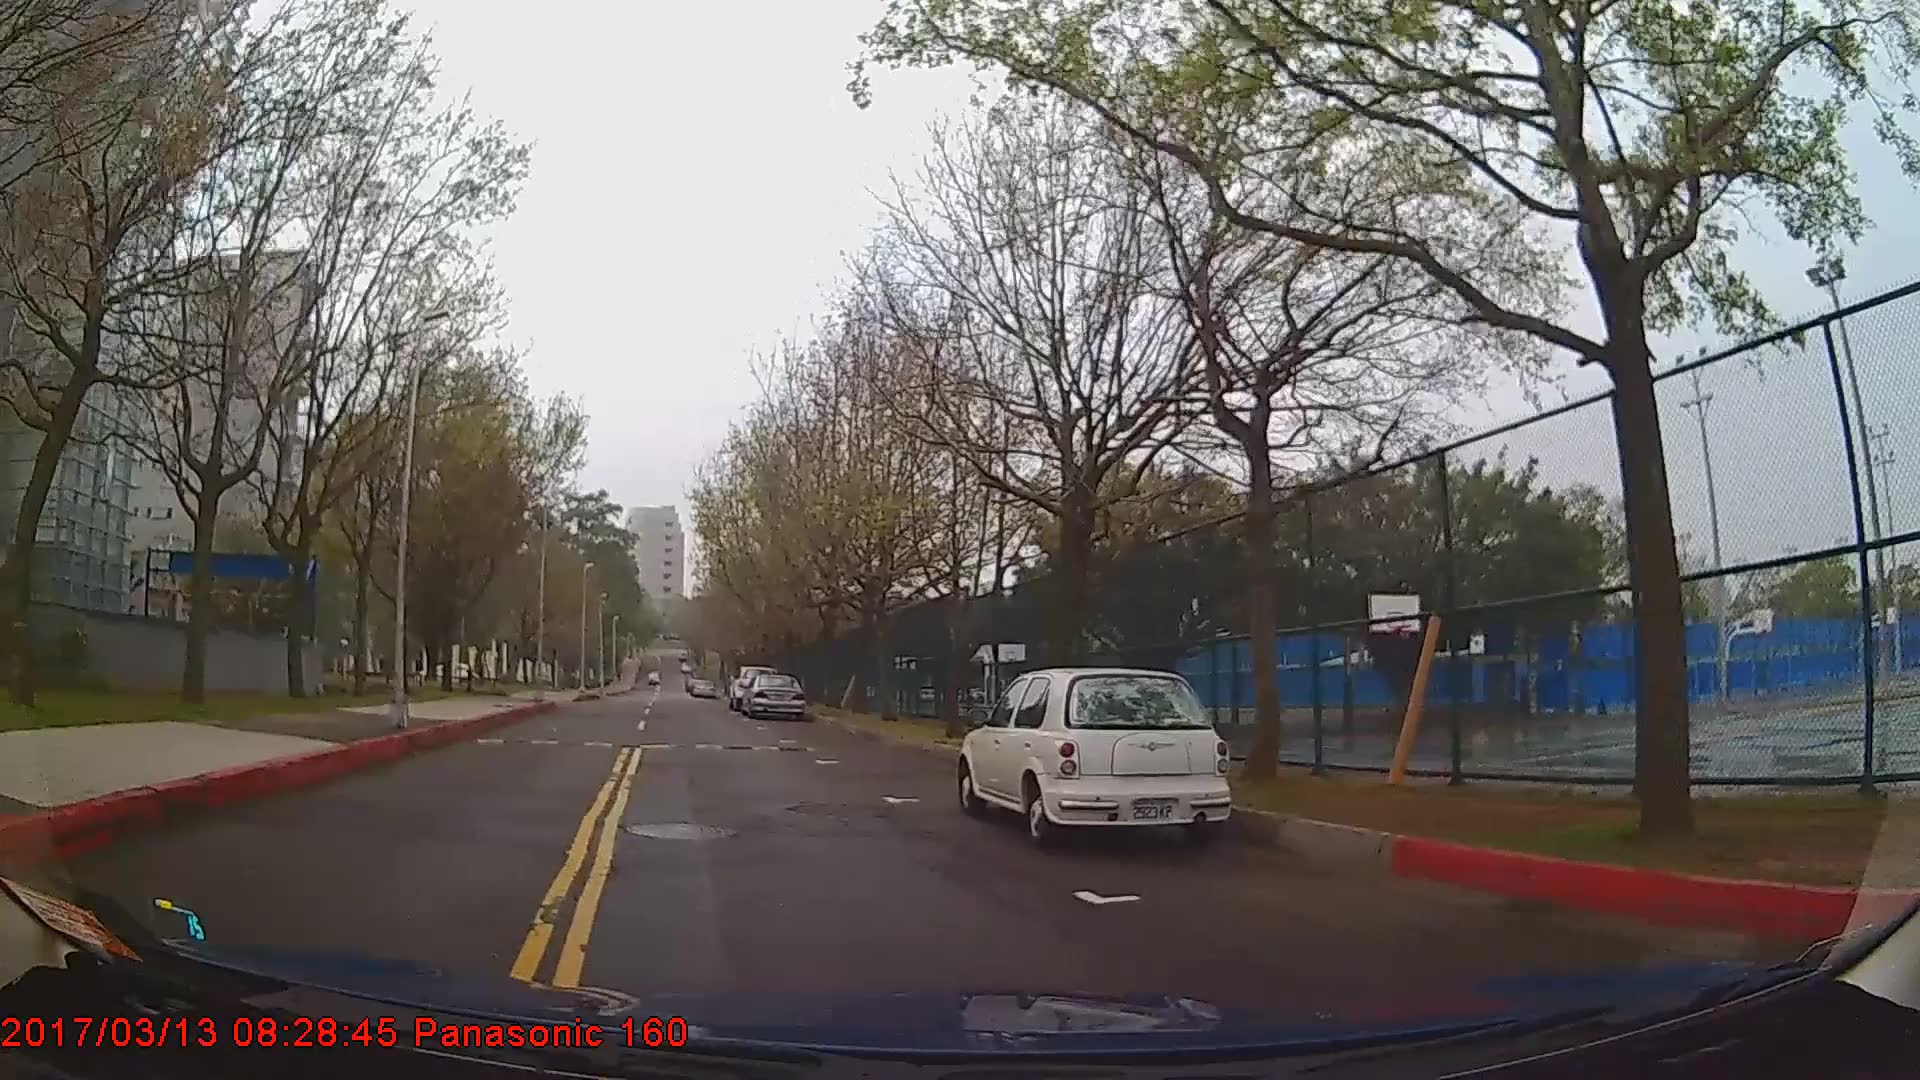vehicle: (957, 669, 1233, 845), (736, 671, 806, 719)
